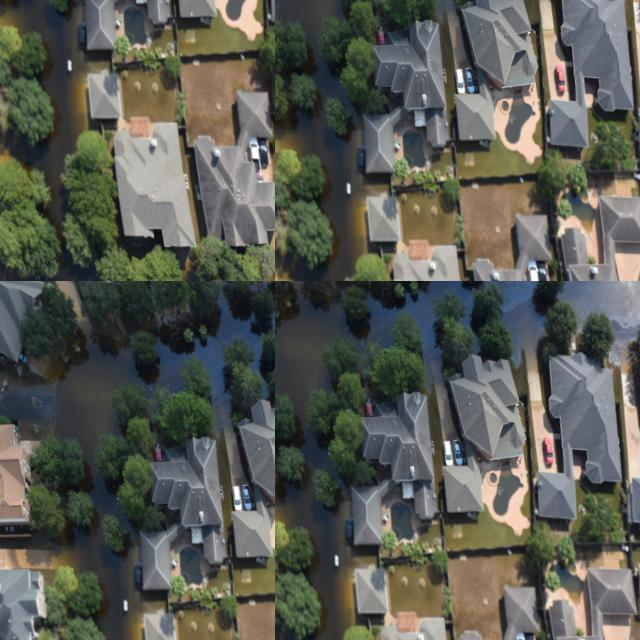fire: (279, 481, 376, 640), (275, 292, 364, 445), (275, 301, 337, 421), (403, 281, 455, 388), (563, 281, 640, 338), (366, 292, 398, 345), (496, 281, 536, 311)
